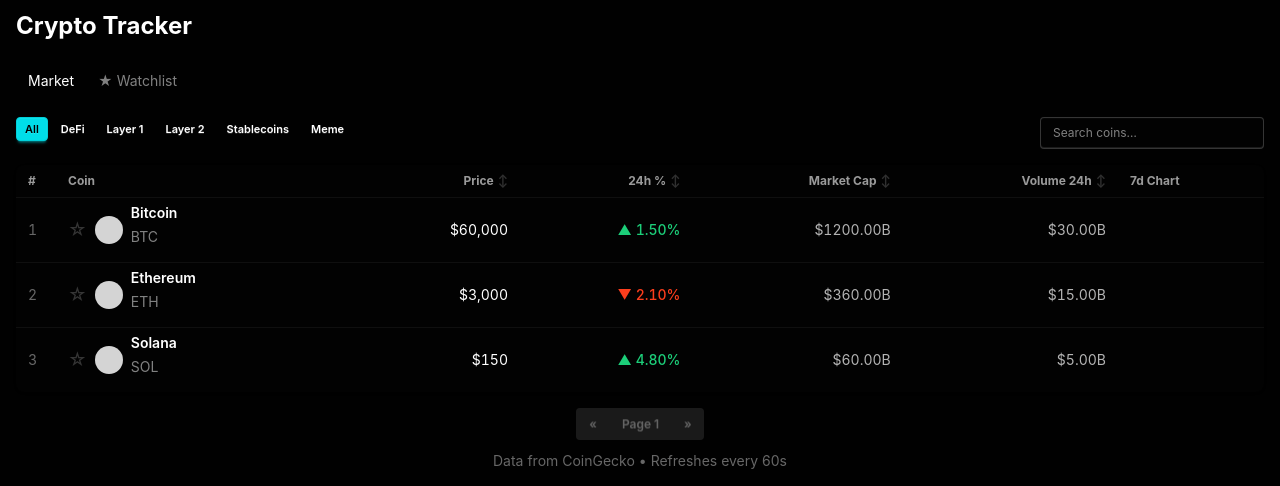
Test: watchlist tab › shows empty state when watchlist is empty
// Use the tab's unique text (★ + "Watchlist" not present in star button aria-labels)
Click the button "★ Watchlist" at (138, 81), box [86, 61, 189, 101]
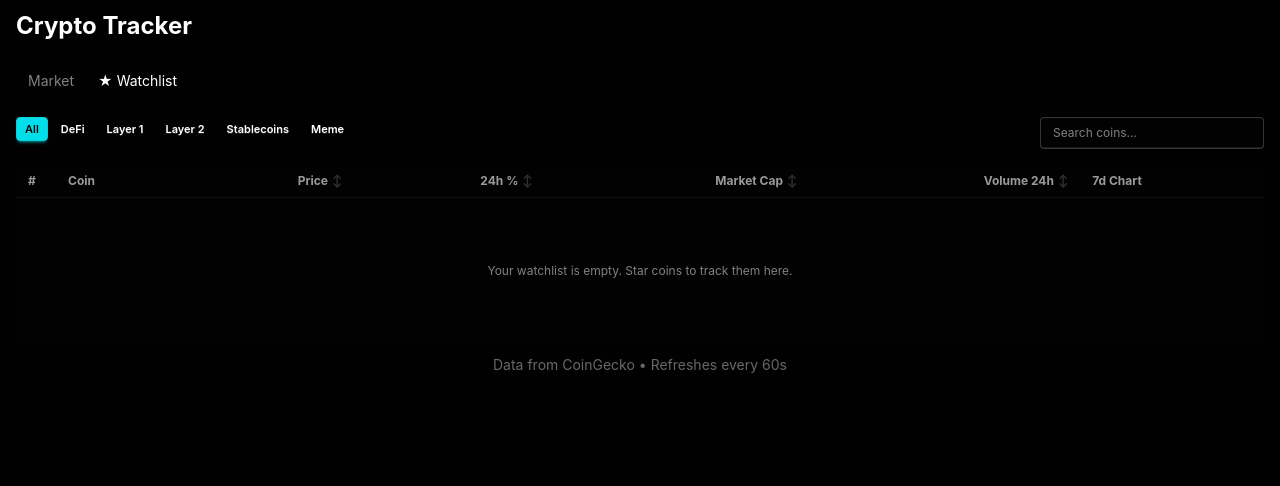
Expected: the text "Your watchlist is empty. Star coins to track them here." is shown, [16, 198, 1264, 344]
